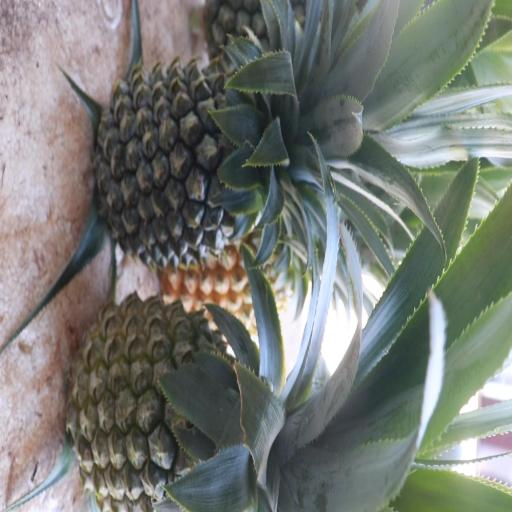------------------------------: (72, 297, 279, 507)
